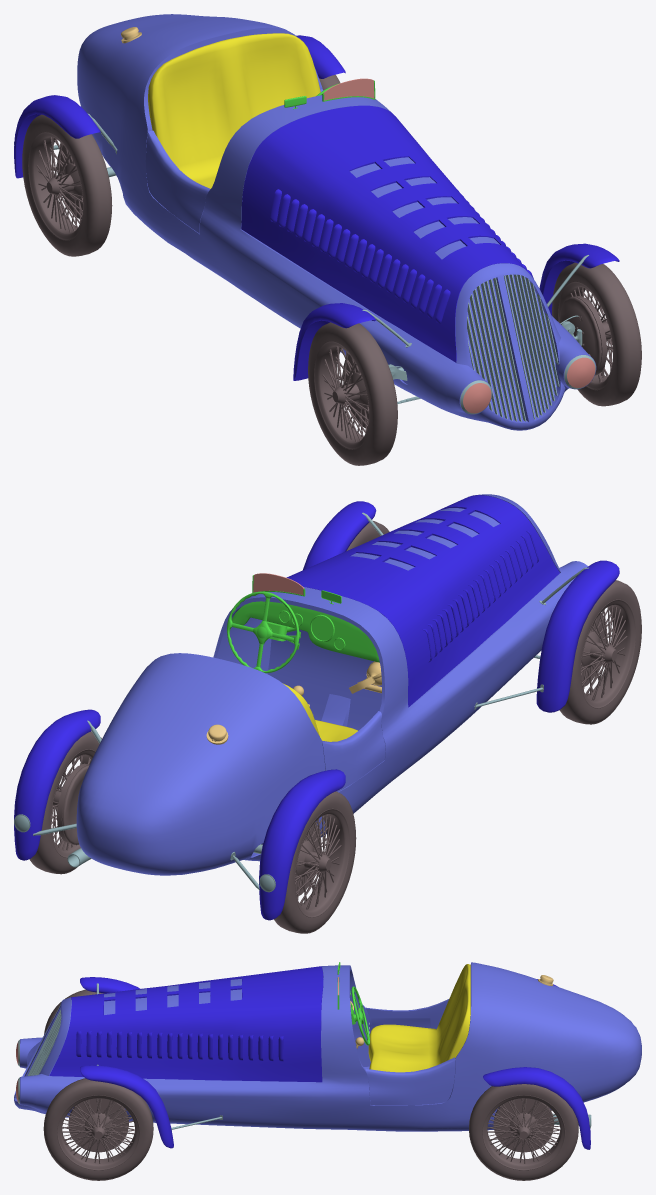
Rendered from raceCar.fbx.
3 views of the same model, one above another, from view 1: azimuth 30°, elevation 25°; view 2: azimuth 150°, elevation 25°; view 3: azimuth 270°, elevation 25° (orthographic). The views are drawn at different scales.
Parts seen in each view (by area): view 1: Body_low, Hood_low, Seat_low, Wheel_Forward_Right, Wheel_Back_Right, Lattice_low, Wheel_Forward_Left, Supports(WheelBack)_low, Black_low, Door_low, HeadLightsGlaz_low, MiniWindow_low; view 2: Body_low, Hood_low, Supports(WheelBack)_low, Wheel_Forward_Right, Wheel_Back_Right, Wheel_Back_Left, PanelWithIndicators_low, Door_low, SteeringWheel_1_low, Black_low, MiniWindow_low, Seat_low; view 3: Body_low, Hood_low, Wheel_Forward_Left, Wheel_Back_Left, Seat_low, Supports(WheelBack)_low, Door_low, Black_low, Lattice_low, SteeringWheel_1_low.
Part boxes in pixels (<box>): Body_low: <box>77,14,596,430</box>; Hood_low: <box>241,105,533,362</box>; Seat_low: <box>148,33,320,188</box>; Wheel_Forward_Right: <box>308,322,397,465</box>; Wheel_Back_Right: <box>22,114,112,256</box>; Lattice_low: <box>467,274,559,421</box>; Wheel_Forward_Left: <box>552,262,641,406</box>; Supports(WheelBack)_low: <box>14,35,619,380</box>; Black_low: <box>350,157,556,420</box>; Door_low: <box>145,89,323,233</box>; HeadLightsGlaz_low: <box>463,357,595,413</box>; MiniWindow_low: <box>322,78,375,101</box>; Body_low: <box>76,494,587,875</box>; Hood_low: <box>286,495,559,707</box>; Supports(WheelBack)_low: <box>14,501,619,920</box>; Wheel_Forward_Right: <box>559,580,641,724</box>; Wheel_Back_Right: <box>274,791,356,933</box>; Wheel_Back_Left: <box>29,731,101,874</box>; PanelWithIndicators_low: <box>232,601,379,662</box>; Door_low: <box>322,711,385,791</box>; SteeringWheel_1_low: <box>227,591,299,673</box>; Black_low: <box>261,508,499,844</box>; MiniWindow_low: <box>252,573,305,596</box>; Seat_low: <box>282,683,357,741</box>; Body_low: <box>14,962,641,1131</box>; Hood_low: <box>49,966,323,1082</box>; Wheel_Forward_Left: <box>43,1078,153,1180</box>; Wheel_Back_Left: <box>469,1084,578,1180</box>; Seat_low: <box>368,964,470,1072</box>; Supports(WheelBack)_low: <box>80,977,590,1149</box>; Door_low: <box>365,999,455,1105</box>; Black_low: <box>104,978,241,1014</box>; Lattice_low: <box>16,1004,61,1098</box>; SteeringWheel_1_low: <box>351,986,370,1045</box>.
Size of the model in its own units: 3.2 by 2.43 by 8.37.
